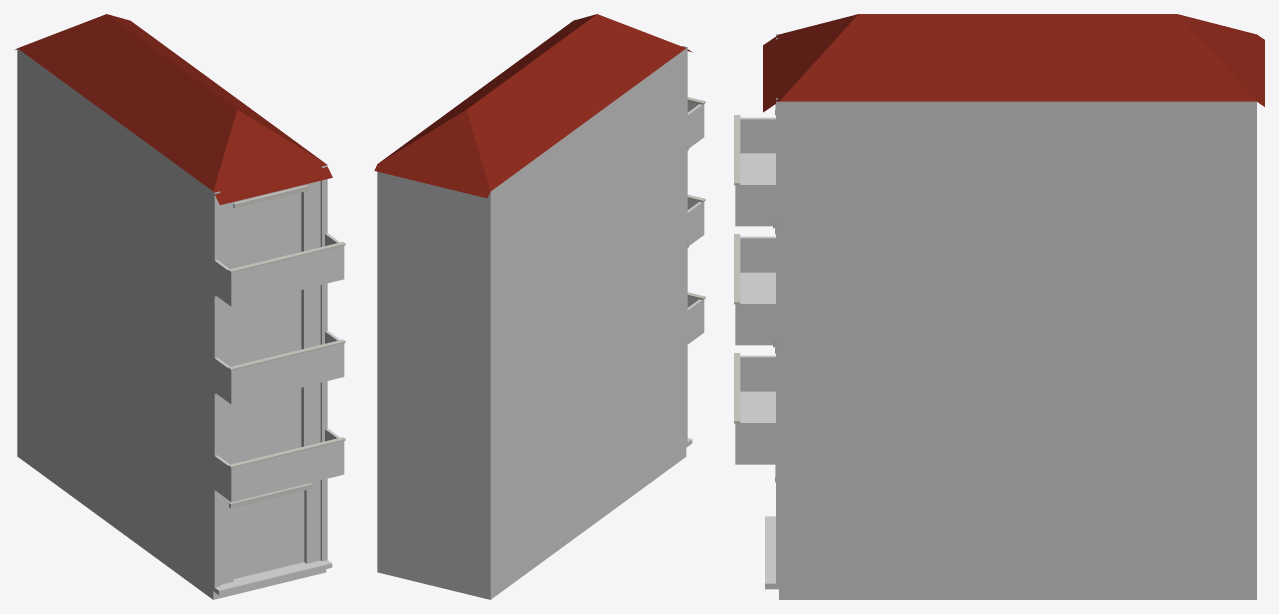
3 renders of one model, left to right at view 1: azimuth 30°, elevation 25°; view 2: azimuth 150°, elevation 25°; view 3: azimuth 270°, elevation 25°, orthographic. The views are drawn at different scales.
Parts seen in each view (by area): view 1: TH_D12_C_01_LOD0; view 2: TH_D12_C_01_LOD0; view 3: TH_D12_C_01_LOD0.
Part boxes in pixels (bbox=[...]): TH_D12_C_01_LOD0: bbox=[14, 14, 345, 599]; TH_D12_C_01_LOD0: bbox=[374, 14, 705, 599]; TH_D12_C_01_LOD0: bbox=[734, 14, 1264, 599].
Size of what is drawn, in the model's own units: 4.06 by 15.3 by 13.33.
